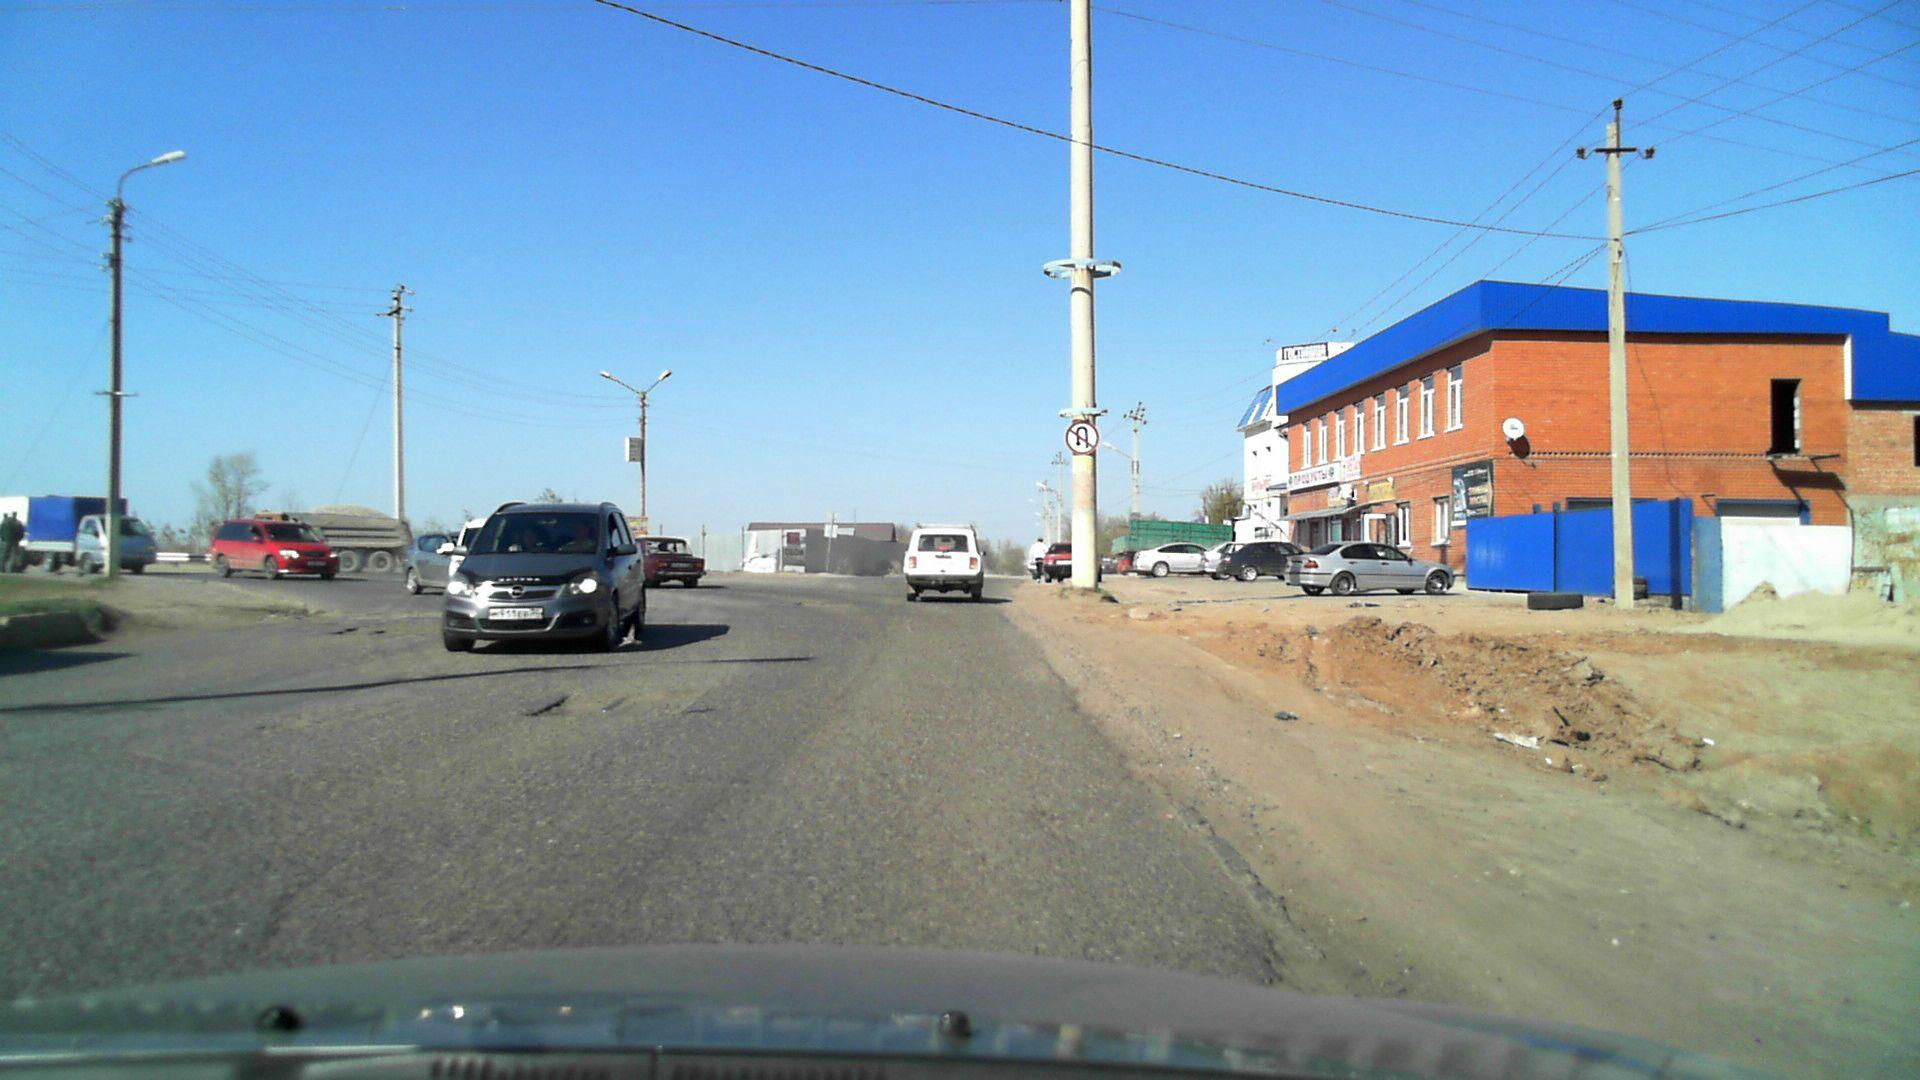3_19: (1062, 419, 1100, 455)
